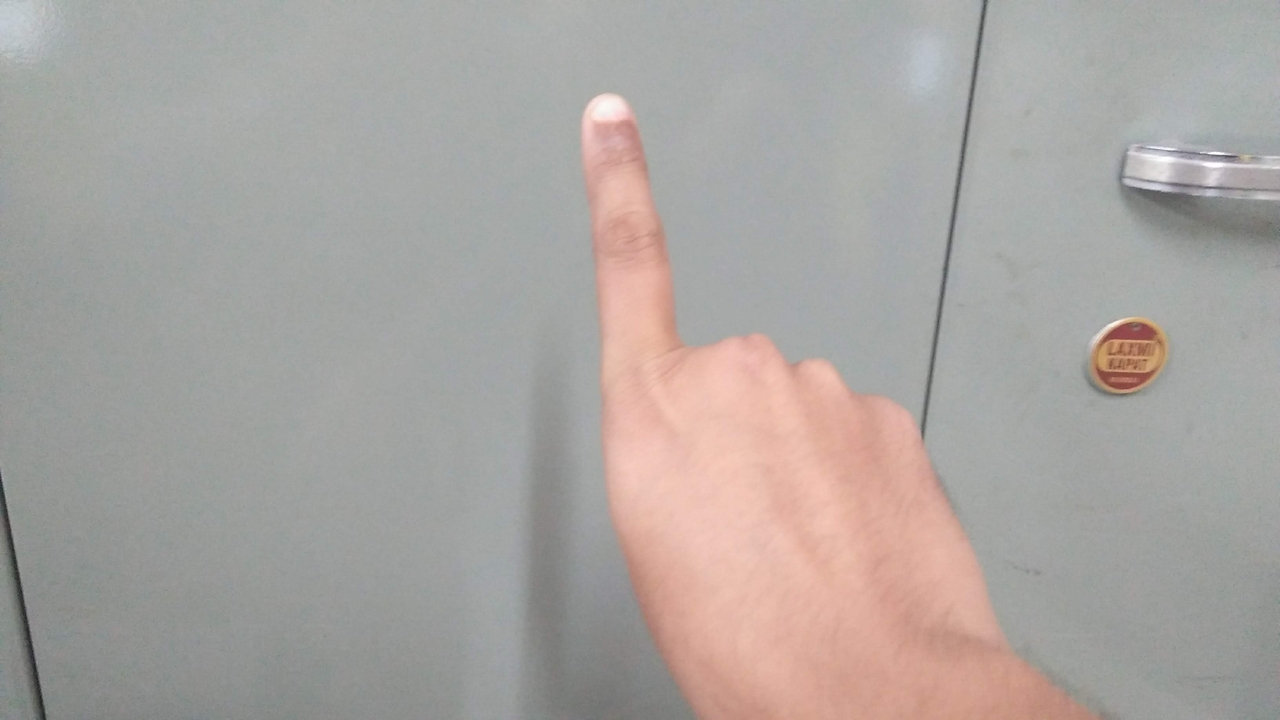fingertip: (576, 90, 644, 146)
